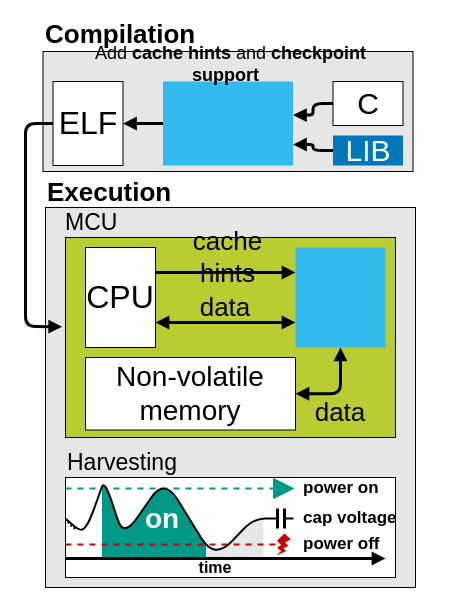
Image size: 476x605. Some labels were removed from this diagram. Each missing label, with the centre of its shape:
Our Cache: point 340,297
Our Compiler: point 227,123
